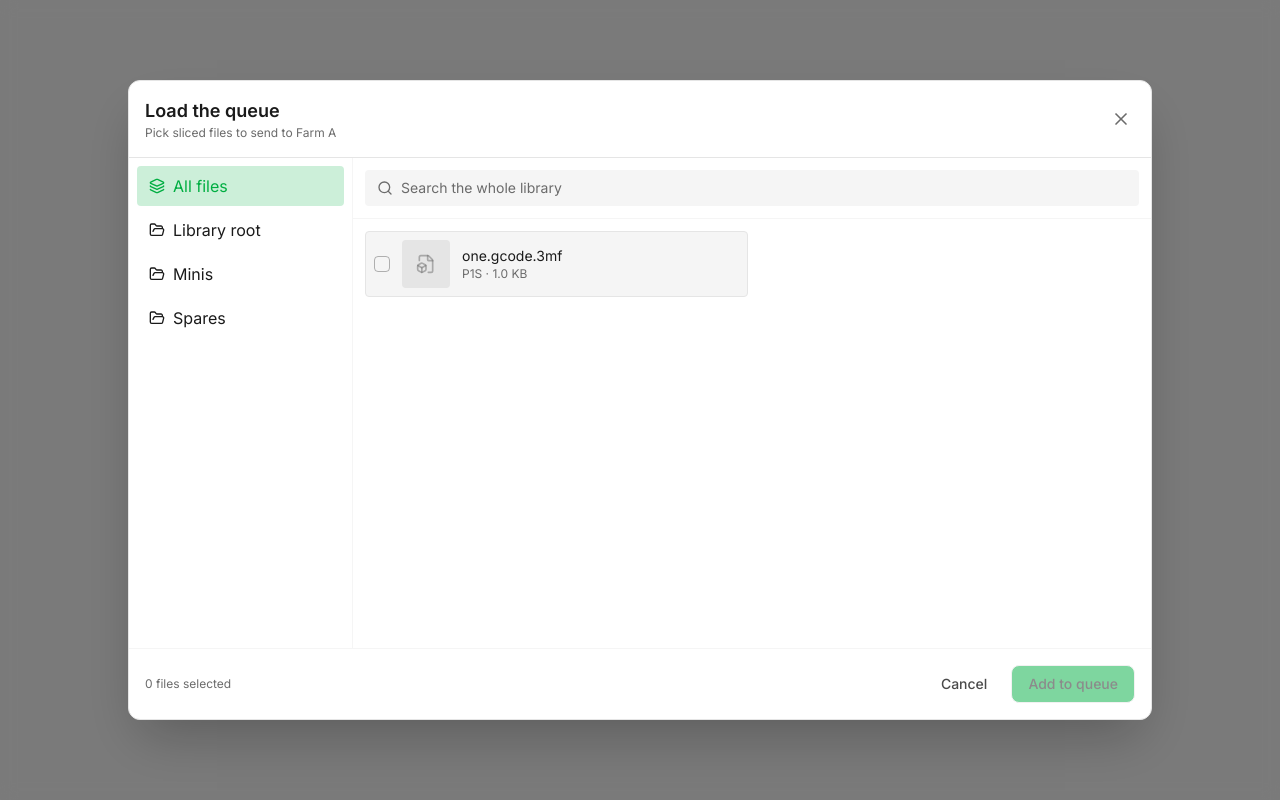
Test: the dialog › unticks what is ticked again
Click the text "one.gcode.3mf": click(512, 256) [462,247,562,264]
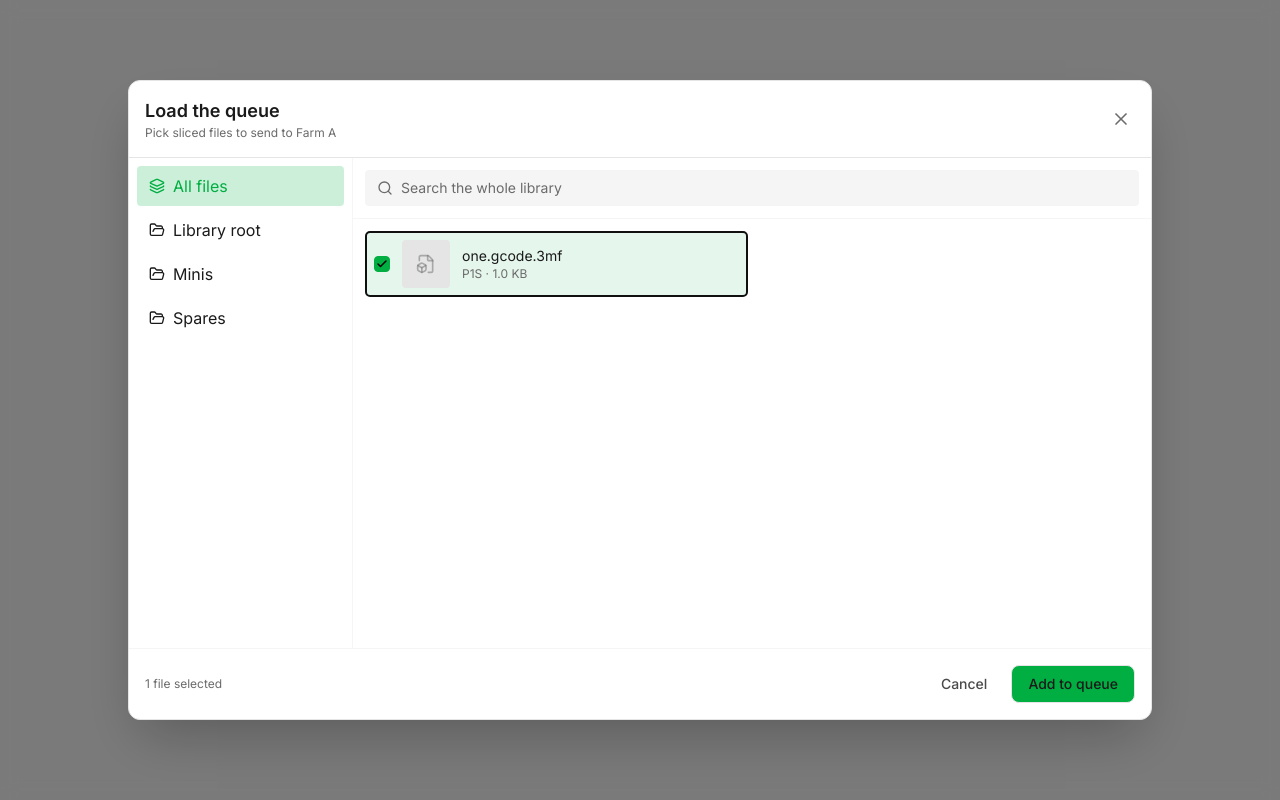
Click the text "one.gcode.3mf": click(512, 256) [462,247,562,264]
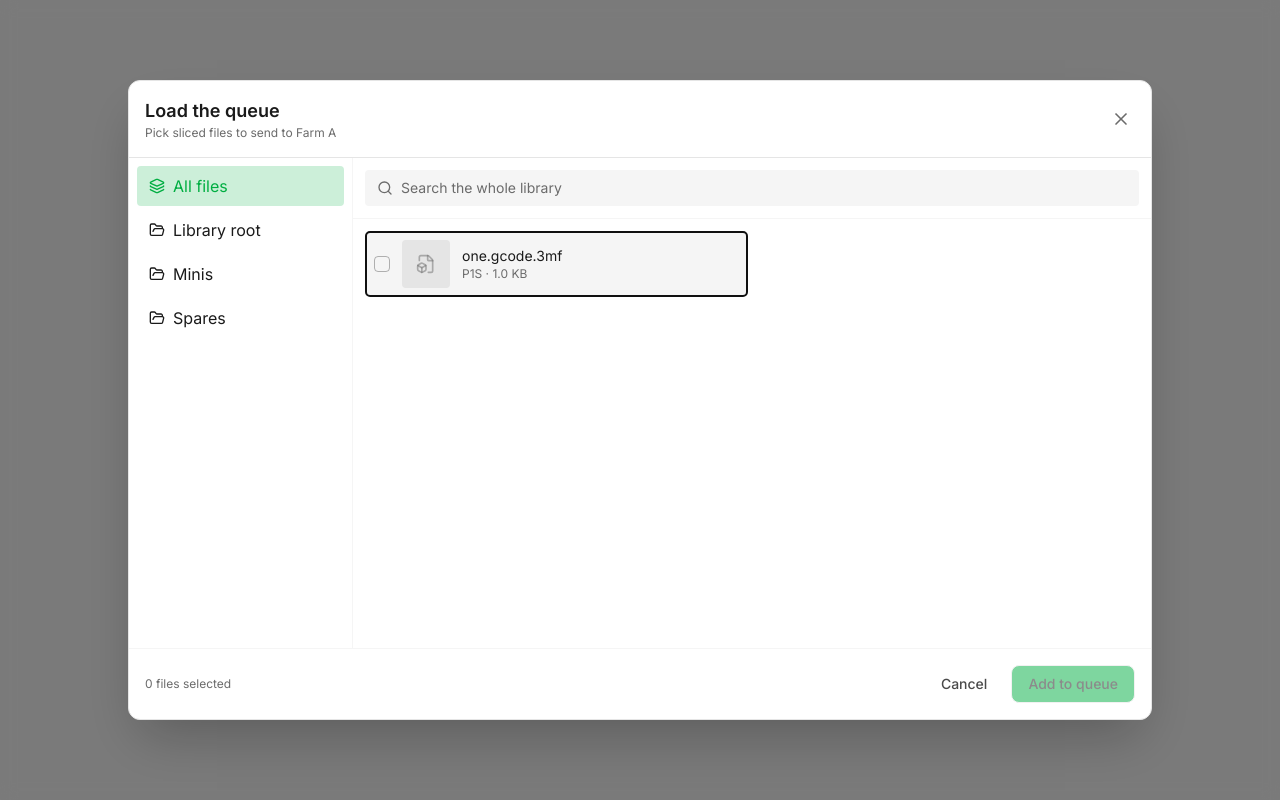
Result: the button "Add to queue" is disabled at [1011,665,1135,703]
